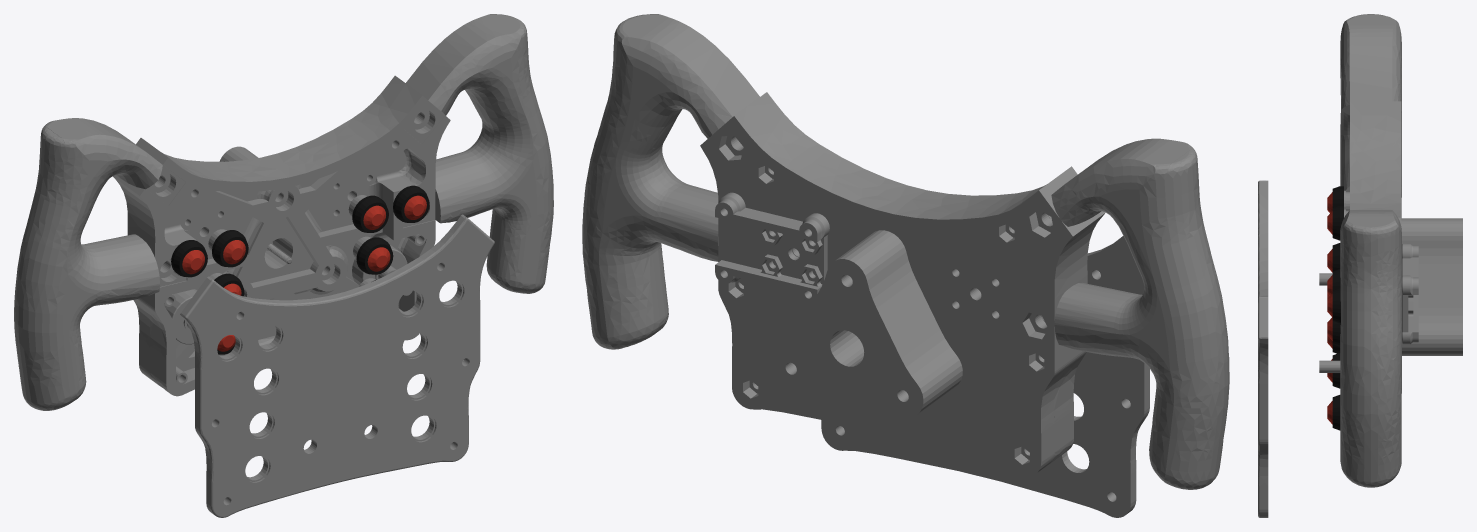
The model's file is simracing-wheel.glb.
3 views of the same model, side by side, from view 1: azimuth 30°, elevation 25°; view 2: azimuth 150°, elevation 25°; view 3: azimuth 270°, elevation 25° (orthographic). The views are drawn at different scales.
Visible parts, largest first — view 1: graphite_001, graphite_119, graphite_003, graphite_002, graphite_117, graphite_116; view 2: graphite_119, graphite_003, graphite_002, graphite_114, graphite_001, graphite_122; view 3: graphite_002, graphite_114, graphite_003, graphite_119, graphite_001, graphite_122, graphite_116, black_powdercoat_111, black_powdercoat_023, black_powdercoat_089.
Part boxes in pixels (box(x1,y1,x2,y2)): graphite_001: box(180, 214, 494, 517); graphite_119: box(113, 75, 450, 396); graphite_003: box(14, 118, 186, 410); graphite_002: box(403, 14, 553, 293); graphite_117: box(164, 289, 197, 344); graphite_116: box(346, 242, 412, 295); graphite_119: box(700, 92, 1105, 476); graphite_003: box(1041, 138, 1229, 489); graphite_002: box(582, 14, 759, 349); graphite_114: box(770, 230, 962, 417); graphite_001: box(821, 236, 1149, 517); graphite_122: box(715, 192, 829, 304); graphite_002: box(1340, 210, 1401, 487); graphite_114: box(1401, 218, 1462, 355); graphite_003: box(1340, 14, 1401, 217); graphite_119: box(1350, 101, 1401, 225); graphite_001: box(1258, 180, 1268, 517); graphite_122: box(1402, 243, 1418, 344); graphite_116: box(1319, 360, 1340, 372); black_powdercoat_111: box(1332, 287, 1339, 323); black_powdercoat_023: box(1332, 205, 1339, 240); black_powdercoat_089: box(1332, 395, 1339, 430).
Bounding box in the file's own units: 280 × 186 × 99.86.
